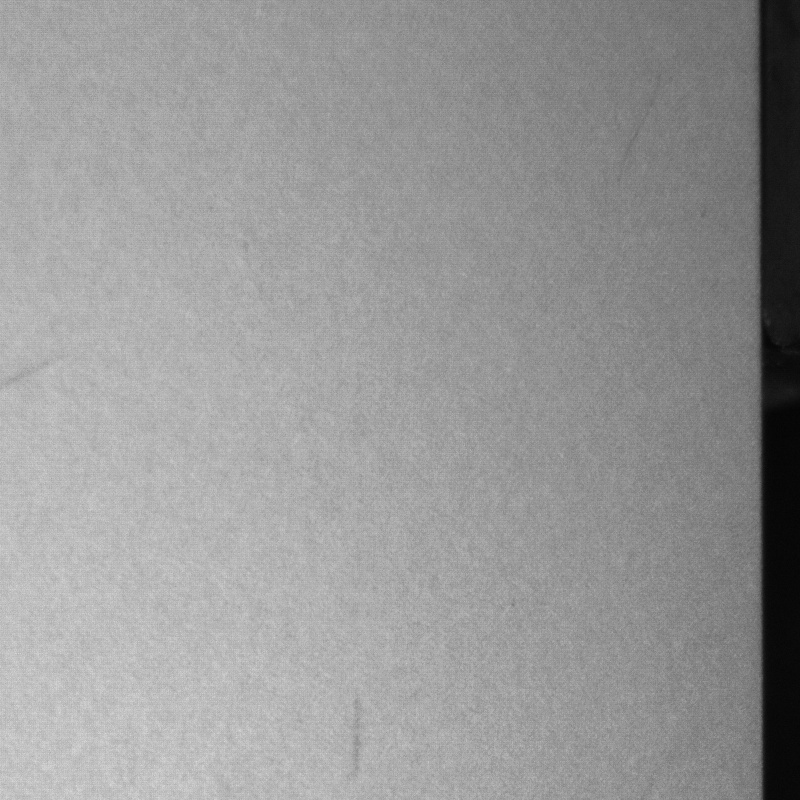defect: (616, 76, 664, 172), (1, 352, 69, 390), (347, 697, 364, 784)
